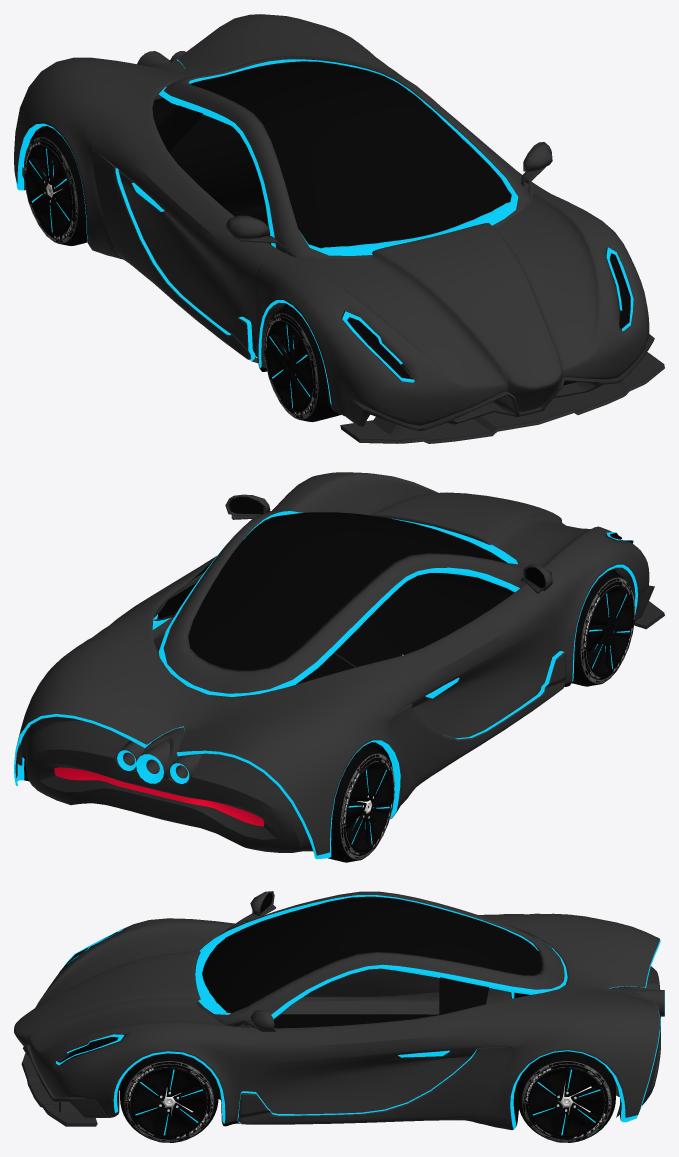
Rendered from car.glb.
3 renders of one model, top to bottom at view 1: azimuth 30°, elevation 25°; view 2: azimuth 150°, elevation 25°; view 3: azimuth 270°, elevation 25°, orthographic. The views are drawn at different scales.
Visible parts, largest first — view 1: Cube.002, Cube.017, Plane.005, Cube.006, Plane.002, Cube.003, Cube.001, Circle.004, Circle.008, Plane.001, Plane.004, Cube.007 (+3 smaller); view 2: Cube.017, Cube.002, Plane.005, Cube.005, Cube.006, Cube.003, Circle.008, Circle.004, Plane.004, Plane.001, Plane.008, Cylinder (+2 smaller); view 3: Cube.017, Cube.002, Plane.005, Cube.006, Cube.003, Circle.002, Circle.003, Plane.003, Plane.006, Plane.002, Plane.008, Cube.001 (+4 smaller).
Part boxes in pixels (x1,y1,x2,y2): Cube.002: (256,190,649,426); Cube.017: (14,14,548,356); Plane.005: (190,61,511,248); Cube.006: (158,55,533,259); Plane.002: (340,352,664,443); Cube.003: (88,144,258,363); Cube.001: (346,334,654,430); Circle.004: (266,321,313,412); Circle.008: (26,145,72,236); Plane.001: (264,305,340,421); Plane.004: (23,128,87,245); Cube.007: (225,142,552,239); Cube.017: (14,556,556,859); Cube.002: (272,472,649,686); Plane.005: (188,512,507,670); Cube.005: (17,716,312,852); Cube.006: (158,510,525,696); Cube.003: (386,651,566,785); Circle.008: (345,761,392,852); Circle.004: (586,585,632,676); Plane.004: (328,745,394,862); Plane.001: (572,570,635,686); Plane.008: (157,559,402,666); Cylinder: (116,741,201,784); Cube.017: (240,913,660,1129); Cube.002: (14,918,241,1126); Plane.005: (202,896,541,1013); Cube.006: (195,891,567,1027); Cube.003: (237,929,519,1124); Circle.002: (130,1067,207,1137); Circle.003: (528,1067,605,1137); Plane.003: (517,1051,615,1142); Plane.006: (120,1053,218,1142); Plane.002: (21,1053,97,1126); Plane.008: (439,977,488,1014); Cube.001: (23,1045,106,1117).
Bounding box in the file's own units: 0.2113 × 0.124 × 0.4484.
12 materials, 1 textured.
